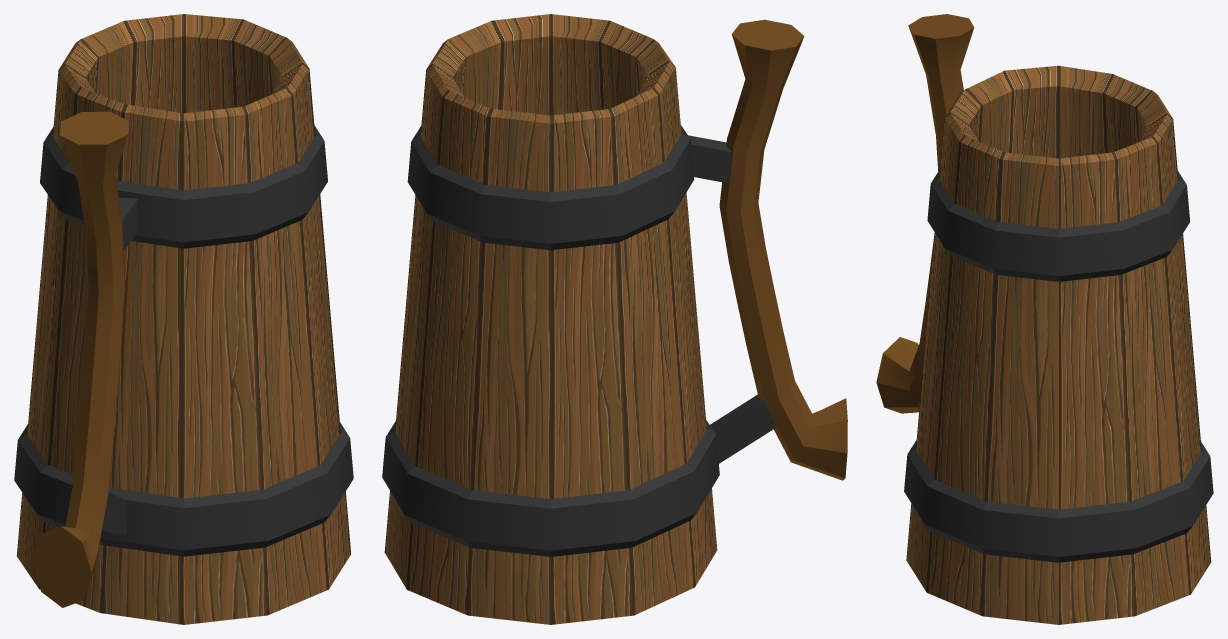
Rendered from Tankard_1.fbx.
3 views of the same model, side by side, from view 1: azimuth 30°, elevation 25°; view 2: azimuth 150°, elevation 25°; view 3: azimuth 270°, elevation 25° (orthographic). The views are drawn at different scales.
Visible parts, largest first — view 1: 1_Tankard_2; view 2: 1_Tankard_2; view 3: 1_Tankard_2.
Part boxes in pixels (bbox=[...]): 1_Tankard_2: bbox=[14, 14, 353, 624]; 1_Tankard_2: bbox=[382, 14, 847, 624]; 1_Tankard_2: bbox=[876, 14, 1213, 624].
Bounding box in the file's own units: 16.09 × 21.3 × 13.86.
